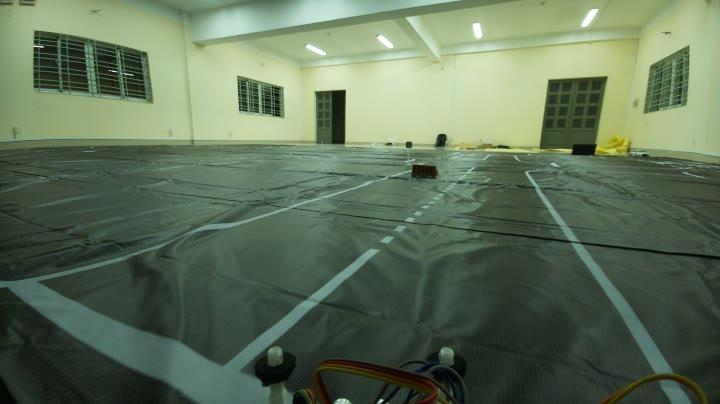roadblock: (412, 163, 440, 181)
